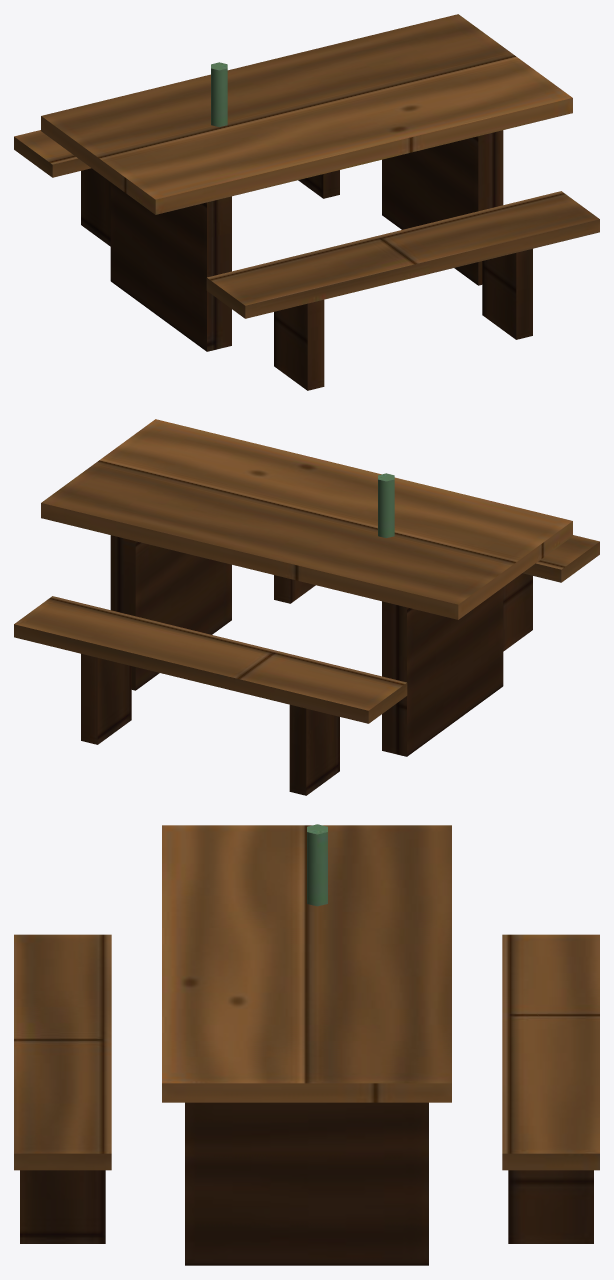
Rendered from trestle_table.glb.
3 views of the same model, one above another, from view 1: azimuth 30°, elevation 25°; view 2: azimuth 150°, elevation 25°; view 3: azimuth 270°, elevation 25° (orthographic). The views are drawn at different scales.
Parts seen in each view (by area): view 1: trestle_table_mesh; view 2: trestle_table_mesh; view 3: trestle_table_mesh.
Boxes of the visible parts, x1,y1,x2,y2 form: trestle_table_mesh: [14, 14, 599, 390]; trestle_table_mesh: [14, 419, 599, 795]; trestle_table_mesh: [14, 824, 599, 1265].
Size of the model in its own units: 2 by 1.06 by 1.92.
Materials: 1 (1 with a texture image).
